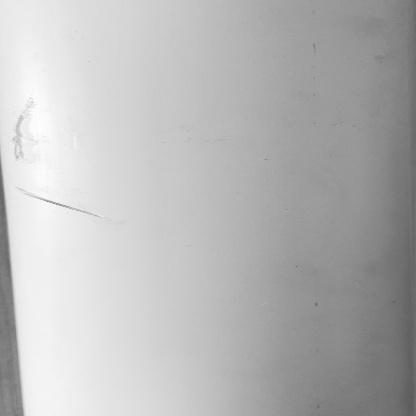sunshang: (9, 104, 99, 223)
